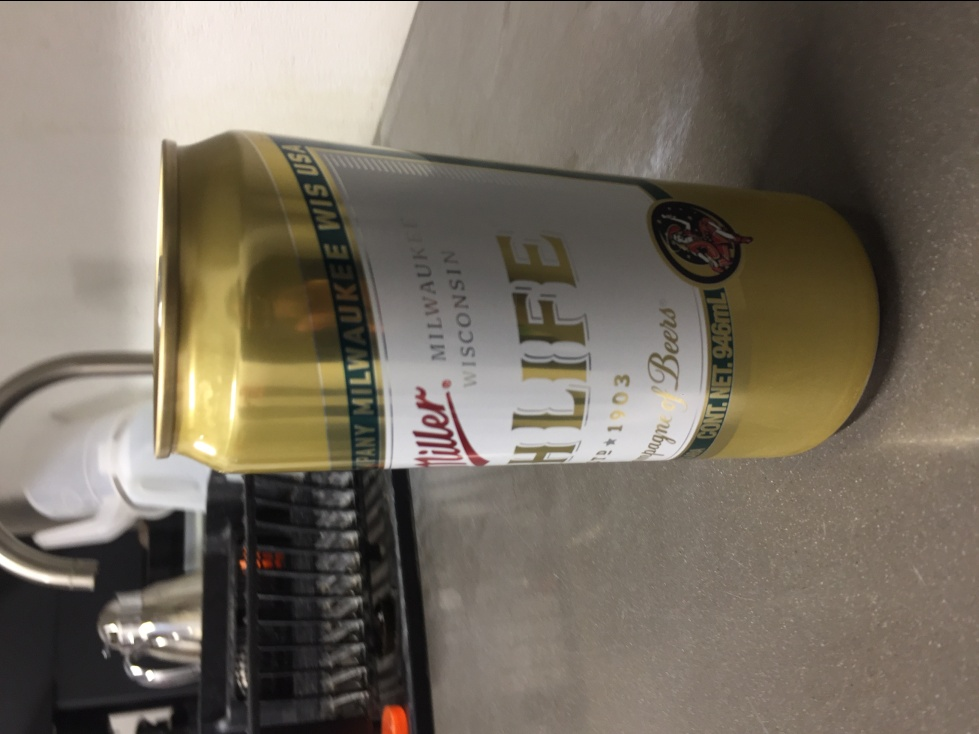miller: (147, 126, 892, 477)
